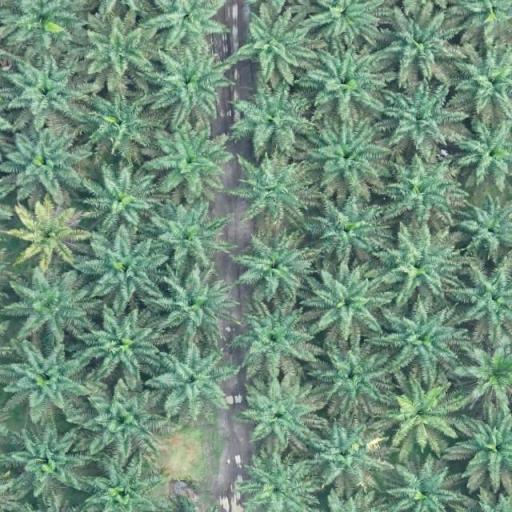Ganoderma: (20, 212, 78, 259)
